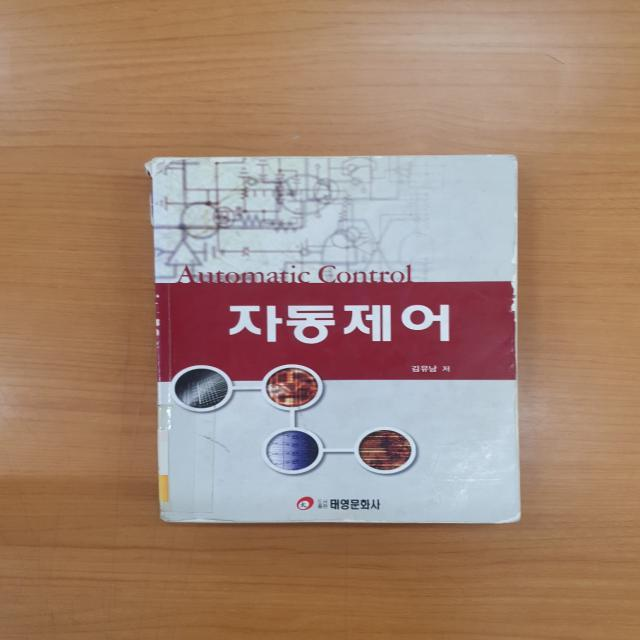Ripped: (130, 151, 190, 229), (506, 237, 521, 322)
Wornout: (246, 153, 390, 168), (157, 510, 241, 527), (508, 364, 523, 459), (152, 288, 166, 350), (466, 151, 523, 165)
